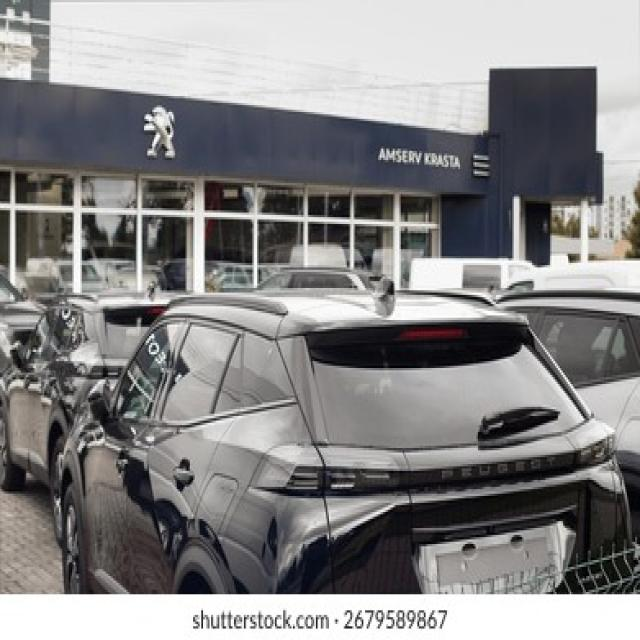pegout: (140, 102, 188, 166)
